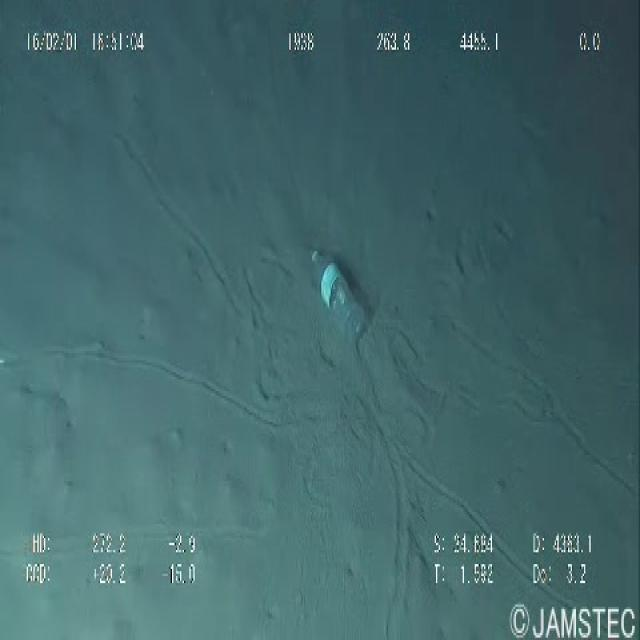plastic: (303, 237, 380, 365)
